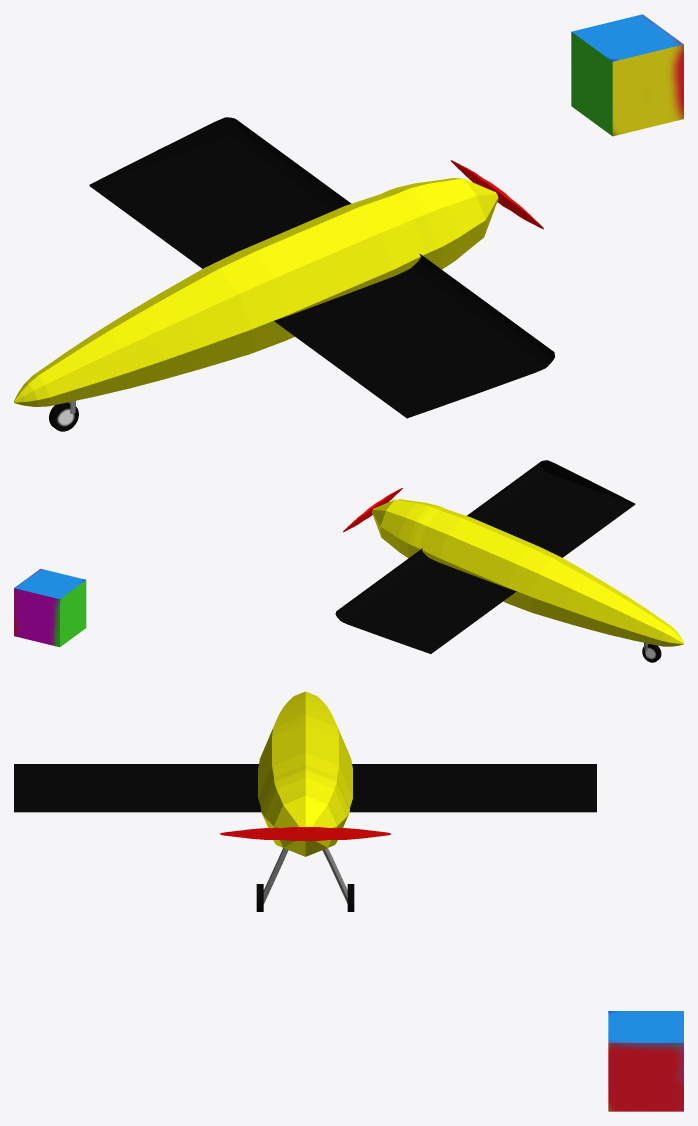
The model's file is blender_plane_vol3.gltf.
The picture shows the model from 3 angles, top to bottom: view 1: azimuth 30°, elevation 25°; view 2: azimuth 150°, elevation 25°; view 3: azimuth 270°, elevation 25°; orthographic projection. The views are drawn at different scales.
Parts seen in each view (by area): view 1: Body, Left Wing, Right Wing, Cube, Propeler1, Zadnje Kolo; view 2: Body, Right Wing, Left Wing, Cube, Propeler1; view 3: Left Wing, Right Wing, Body, Cube, Propeler1.
Part boxes in pixels (left/top/right/bottom): Body: left=14, top=178, right=498, bottom=406; Left Wing: left=274, top=254, right=554, bottom=418; Right Wing: left=89, top=117, right=351, bottom=268; Cube: left=571, top=14, right=683, bottom=136; Propeler1: left=450, top=160, right=543, bottom=229; Zadnje Kolo: left=49, top=402, right=78, bottom=431; Body: left=372, top=499, right=683, bottom=646; Right Wing: left=335, top=548, right=516, bottom=653; Left Wing: left=467, top=460, right=635, bottom=557; Cube: left=14, top=568, right=86, bottom=647; Propeler1: left=343, top=488, right=402, bottom=532; Left Wing: left=14, top=764, right=261, bottom=812; Right Wing: left=350, top=764, right=596, bottom=812; Body: left=258, top=691, right=352, bottom=856; Cube: left=608, top=1011, right=683, bottom=1111; Propeler1: left=220, top=827, right=390, bottom=840.
Size of what is drawn, in the model's own units: 23.39 by 4.25 by 17.7.
6 materials, 6 textured.
